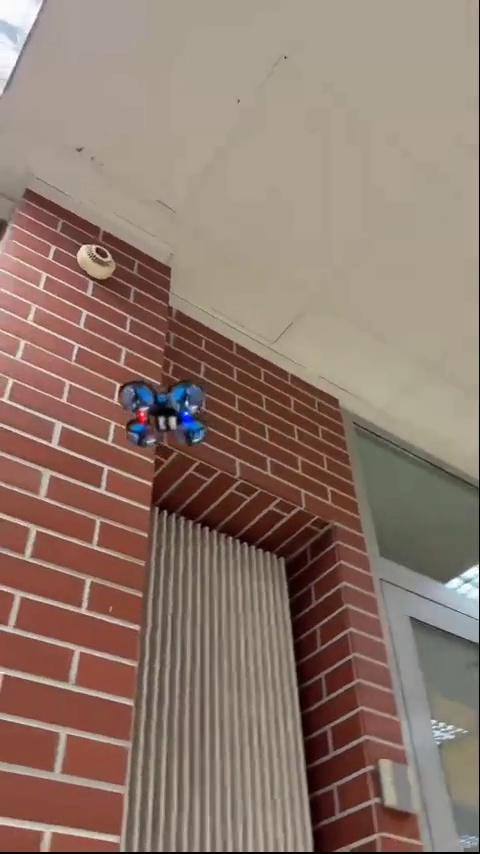drone: (118, 380, 208, 448)
